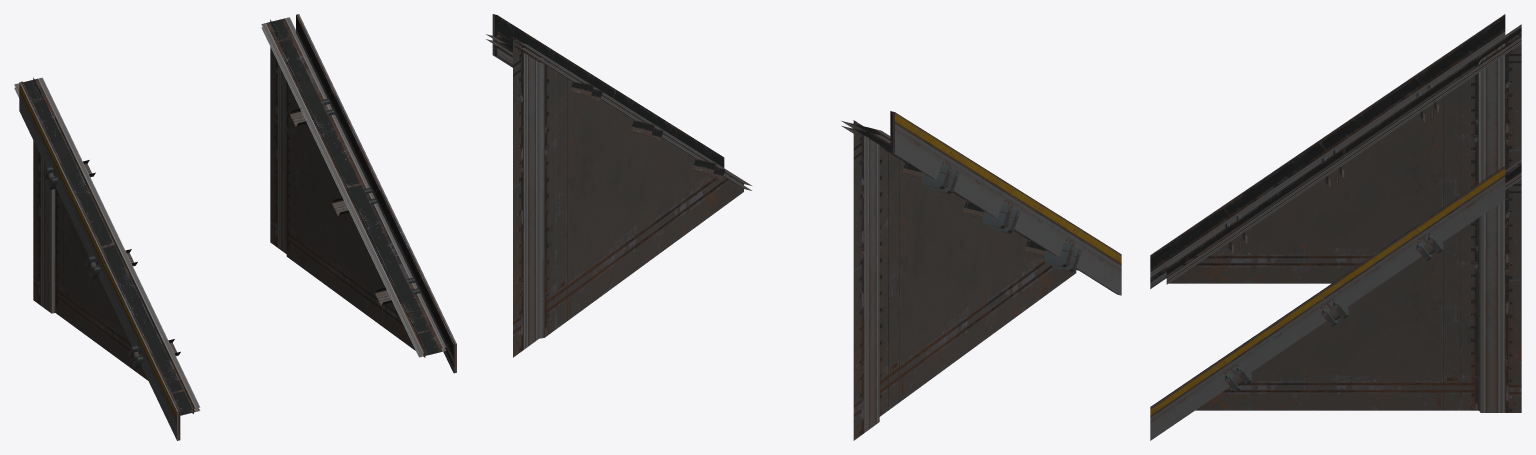
File: Concrete_Wall1_Stairs1_Side_L1.fbx
The picture shows the model from 3 angles, left to right: view 1: azimuth 30°, elevation 25°; view 2: azimuth 150°, elevation 25°; view 3: azimuth 270°, elevation 25°; orthographic projection. The views are drawn at different scales.
Visible parts, largest first — view 1: Concrete_Wall1_Stairs1_Side_L1; view 2: Concrete_Wall1_Stairs1_Side_L1; view 3: Concrete_Wall1_Stairs1_Side_L1.
Part boxes in pixels (left/top/right/bottom): Concrete_Wall1_Stairs1_Side_L1: left=14, top=14, right=456, bottom=440; Concrete_Wall1_Stairs1_Side_L1: left=486, top=14, right=1121, bottom=440; Concrete_Wall1_Stairs1_Side_L1: left=1150, top=14, right=1521, bottom=440.
Size of the model in its own units: 425 by 340 by 419.
